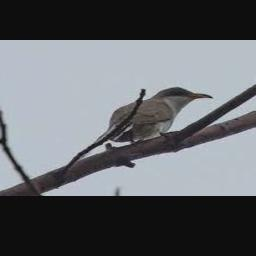Cuckoo: (103, 86, 211, 142)
